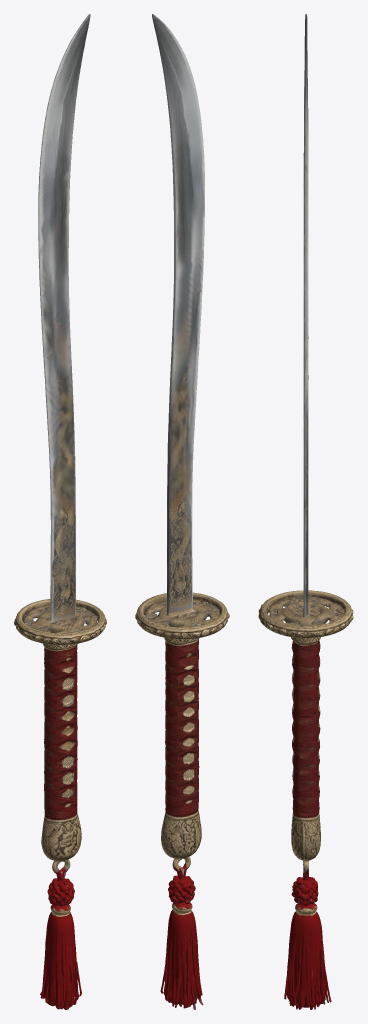
The model's file is weapon_ming_dao.glb.
The picture shows the model from 3 angles, left to right: view 1: azimuth 30°, elevation 25°; view 2: azimuth 210°, elevation 25°; view 3: azimuth 270°, elevation 25°; orthographic projection. The views are drawn at different scales.
Bounding box in the file's own units: 0.0891 × 1.05 × 0.0898.
Materials: 1 (1 with a texture image).
